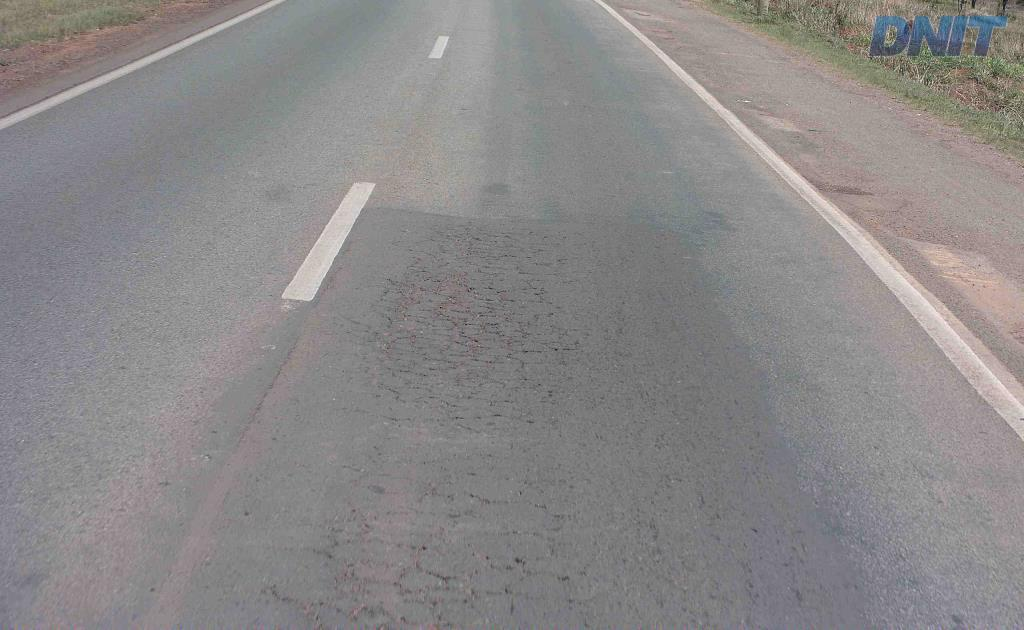crack: (433, 302, 524, 347)
